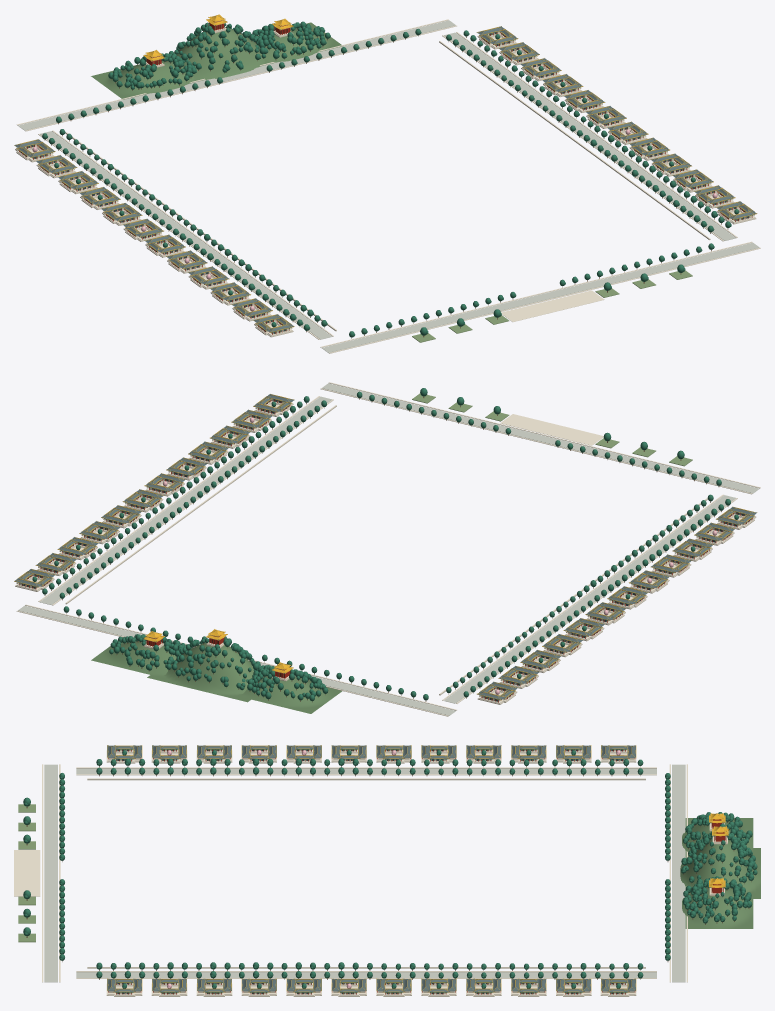
The model's file is palace-setting.glb.
3 views of the same model, one above another, from view 1: azimuth 30°, elevation 25°; view 2: azimuth 150°, elevation 25°; view 3: azimuth 270°, elevation 25° (orthographic). The views are drawn at different scales.
Size of the model in its own units: 53.3 by 4.82 by 68.2.
